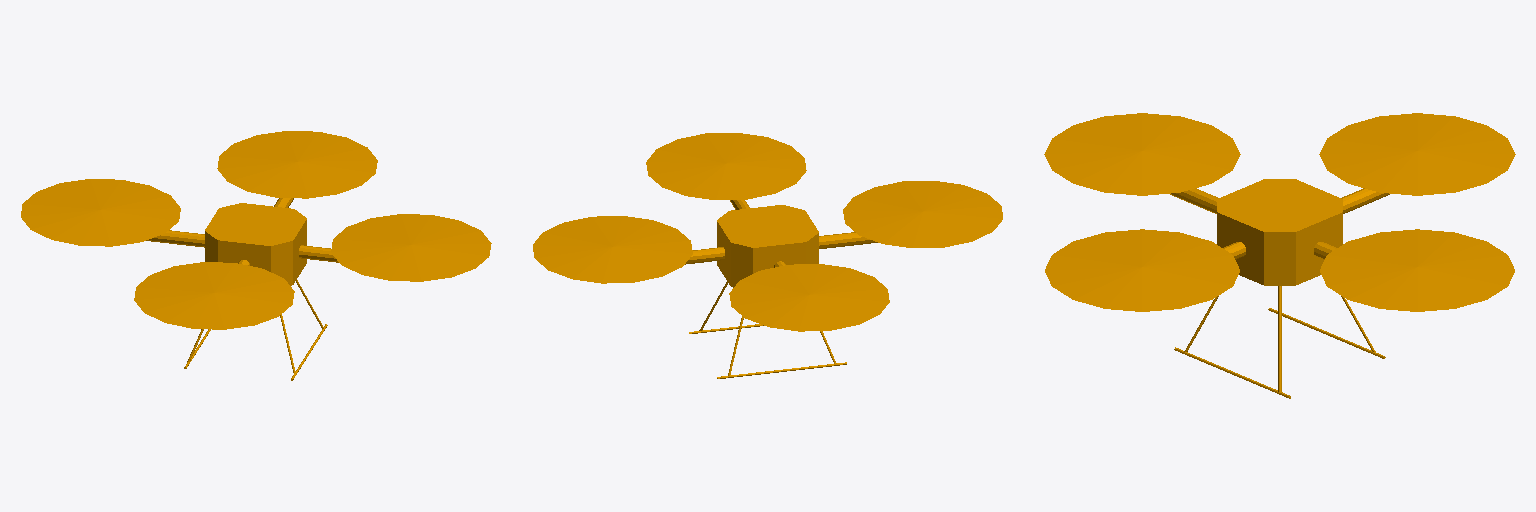
The robot description file, URDF, robot "quadrotor":
<?xml version="1.0" ?>

<!-- adapted from [author], [author], [author], "Trajectory Generation and Control for Precise Aggressive Maneuvers with Quadrotors" -->

<robot xmlns="http://drake.mit.edu"
 xmlns:xsi="http://www.w3.org/2001/XMLSchema-instance"
 xsi:schemaLocation="http://drake.mit.edu ../../../../pods/drake/doc/drakeURDF.xsd" name="quadrotor">
  <link name="base_link">
    <inertial>
      <mass value="0.5"/>
      <origin xyz="0 0 0"/>
      <inertia ixx="0.0023" ixy="0.0" ixz="0.0" iyy="0.0023" iyz="0.0" izz="0.004"/>
    </inertial>
    <visual>
      <origin rpy="0 0 0" xyz="0 0 0"/>
      <geometry>
        <mesh filename="quadrotor_base.obj" scale=".1 .1 .1"/>
      </geometry>
    </visual>
    <!-- note: the original hector quadrotor urdf had a (simplified, but still complex) collision mesh, too -->
    <collision>
      <origin rpy="0 0 0" xyz="0 0 0"/>
      <geometry>
        <cylinder radius=".3" length=".1"/>
      </geometry>
    </collision>
  </link>

  <frame link="base_link" name="body" rpy="0 0 0" xyz="0 0 0" />
  <force_element name="prop1">
    <propellor lower_limit="0" upper_limit="10" scale_factor_thrust="1.0" scale_factor_moment="0.0245">
      <parent link="base_link"/>
      <origin xyz=".12374 .12374 0"/>
      <axis xyz="0 0 1"/>
    </propellor>
  </force_element>

  <force_element name="prop2">
    <propellor lower_limit="0" upper_limit="10" scale_factor_thrust="1.0" scale_factor_moment="-0.0245">
      <parent link="base_link"/>
      <origin xyz="-.12374 .12374 0 "/>
      <axis xyz="0 0 1"/>
    </propellor>
  </force_element>
  
  <force_element name="prop3">
    <propellor lower_limit="0" upper_limit="10" scale_factor_thrust="1.0" scale_factor_moment="0.0245">
      <parent link="base_link"/>
      <origin xyz="-.12374 -.12374 0"/>
      <axis xyz="0 0 1"/>
    </propellor>
  </force_element>
  
  <force_element name="prop4">
    <propellor lower_limit="0" upper_limit="10" scale_factor_thrust="1.0" scale_factor_moment="-0.0245">
      <parent link="base_link"/>
      <origin xyz=".12374 -.12374 0"/>
      <axis xyz="0 0 1"/>
    </propellor>
  </force_element>
</robot>

--- What the picture shows (computed from the rendered views, not written in the file) ---
3 views of the same robot in one strip: view 1: azimuth 30°, elevation 25°; view 2: azimuth 150°, elevation 25°; view 3: azimuth 270°, elevation 25° (orthographic).
Model quadrotor with 1 links and 0 joints (none), rooted at base_link, posed all joints at 0.
Links seen in each view (by area): view 1: base_link; view 2: base_link; view 3: base_link.
Boxes of the visible links, x1,y1,x2,y2 form: base_link: [21, 131, 491, 380]; base_link: [533, 133, 1002, 378]; base_link: [1044, 113, 1515, 398].
Size in the robot's own frame: 0.477 by 0.477 by 0.1666 metres.
1 mesh visuals loaded from 1 distinct referenced files (1 OBJ).
